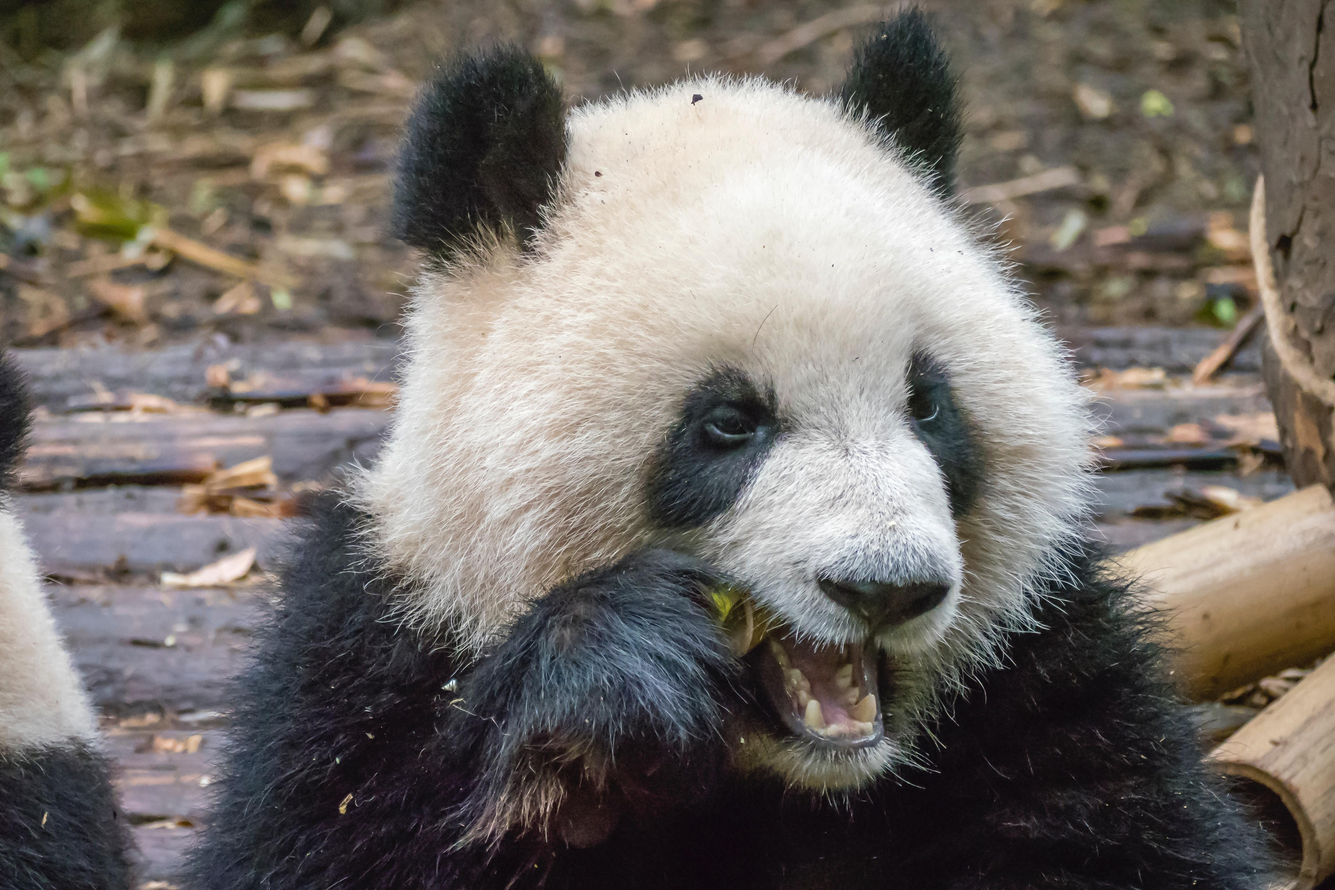panda: (208, 8, 1124, 890)
